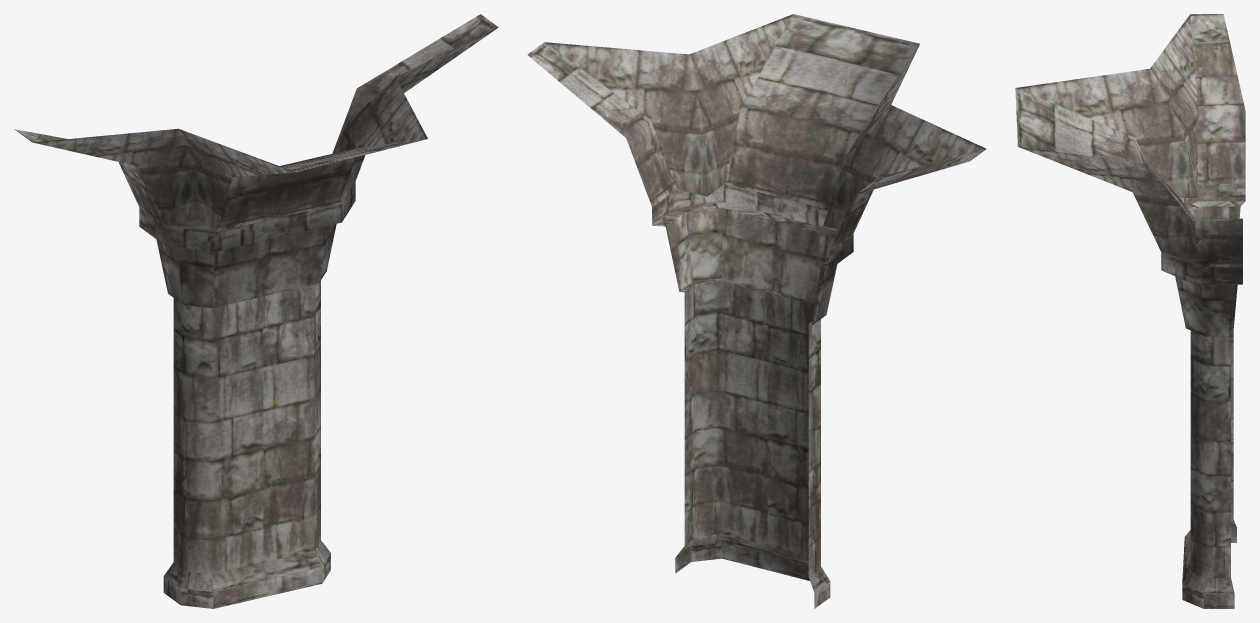
Rendered from ornate_pillar_side_wide.glb.
3 views of the same model, side by side, from view 1: azimuth 30°, elevation 25°; view 2: azimuth 150°, elevation 25°; view 3: azimuth 270°, elevation 25° (orthographic). The views are drawn at different scales.
Visible parts, largest first — view 1: ornate_pillar_side_wide; view 2: ornate_pillar_side_wide; view 3: ornate_pillar_side_wide.
Part boxes in pixels (x1,y1,x2,y2): ornate_pillar_side_wide: (14, 14, 498, 608); ornate_pillar_side_wide: (527, 14, 986, 608); ornate_pillar_side_wide: (1015, 14, 1245, 608).
Size of the model in its own units: 8.98 by 9.3 by 4.22.
Materials: 1 (1 with a texture image).
